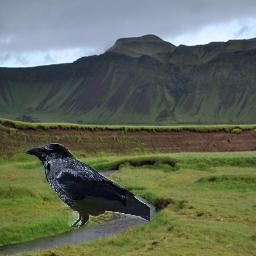Crow: (23, 143, 150, 227)
